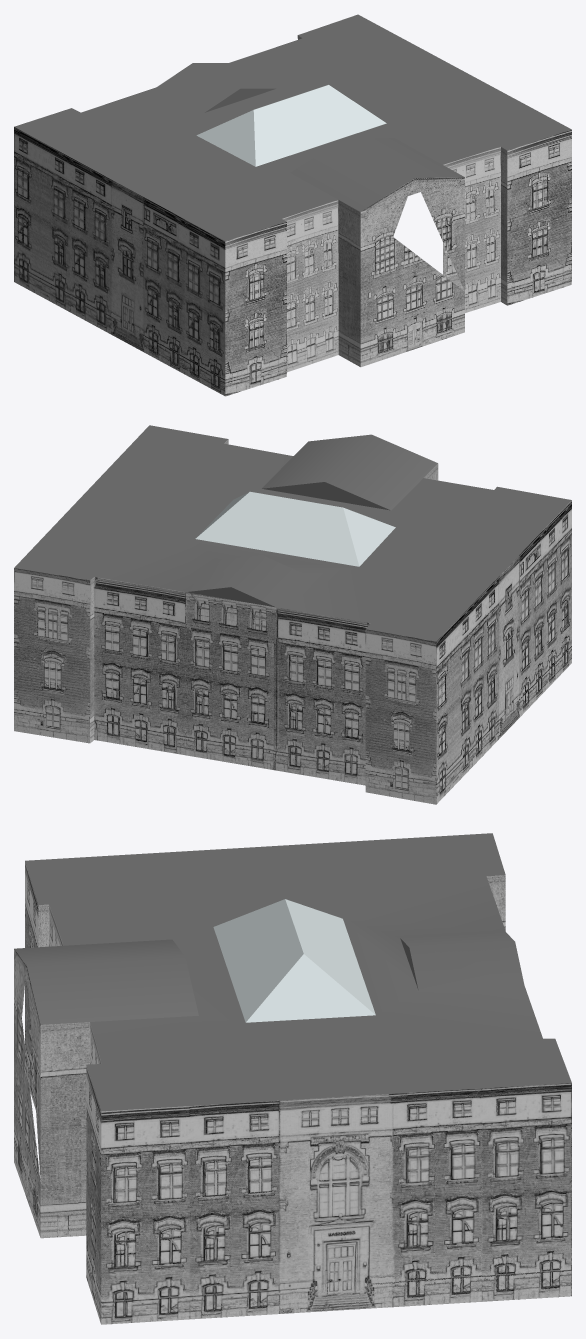
Rendered from Goerges-Bau.gltf.
3 views of the same model, one above another, from view 1: azimuth 30°, elevation 25°; view 2: azimuth 150°, elevation 25°; view 3: azimuth 270°, elevation 25° (orthographic). The views are drawn at different scales.
Parts seen in each view (by area): view 1: Dach.1; view 2: Dach.1; view 3: Dach.1.
Part boxes in pixels (bbox=[...]): Dach.1: bbox=[14, 14, 571, 396]; Dach.1: bbox=[14, 425, 571, 804]; Dach.1: bbox=[14, 833, 571, 1324].
Bounding box in the file's own units: 53.21 × 22.95 × 45.04.
11 materials, 9 textured.
